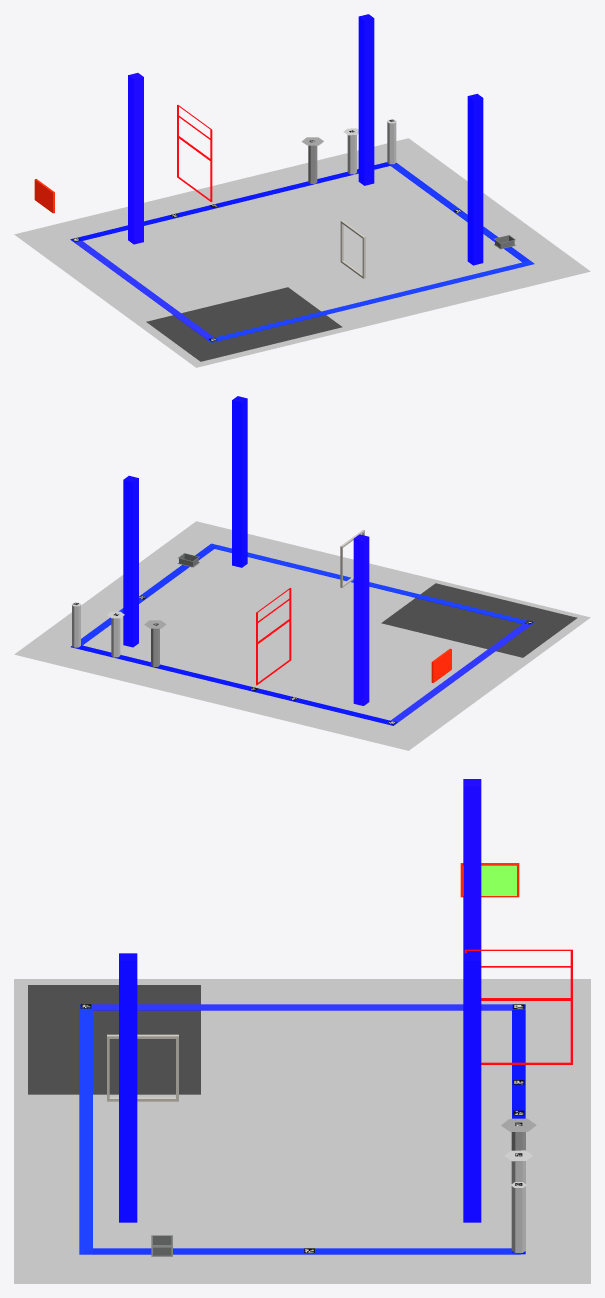
The model's file is imav_indoor24.dae.
3 renders of one model, top to bottom at view 1: azimuth 30°, elevation 25°; view 2: azimuth 150°, elevation 25°; view 3: azimuth 270°, elevation 25°, orthographic. The views are drawn at different scales.
Parts seen in each view (by area): view 1: Chão, Takeoff, Pilar.001, Pilar.002, Pilar, Linha 2, Linha 1, Linha 4, Linha 3, Cube.002, Cylinder, AcrylicWindow (+2 smaller); view 2: Chão, Takeoff, Pilar, Pilar.001, Pilar.002, Linha 1, Linha 2, Linha 4, Linha 3, Cube.002, Cylinder, Cylinder.001 (+1 smaller); view 3: Chão, Takeoff, Pilar.002, Pilar.001, Linha 2, Pilar, Linha 3, Linha 4, Cube, Linha 1, Cube.002, Cylinder.002 (+2 smaller).
Part boxes in pixels (x1=…): Chão: x1=14, y1=138, x2=590, y2=367; Takeoff: x1=146, y1=287, x2=342, y2=361; Pilar.001: x1=358, y1=14, x2=374, y2=185; Pilar.002: x1=467, y1=93, x2=483, y2=265; Pilar: x1=128, y1=73, x2=143, y2=244; Linha 2: x1=207, y1=260, x2=534, y2=342; Linha 1: x1=71, y1=162, x2=397, y2=242; Linha 4: x1=70, y1=239, x2=214, y2=340; Linha 3: x1=389, y1=163, x2=529, y2=262; Cube.002: x1=177, y1=105, x2=212, y2=202; Cylinder: x1=301, y1=137, x2=323, y2=184; AcrylicWindow: x1=340, y1=220, x2=365, y2=278; Chão: x1=14, y1=521, x2=590, y2=750; Takeoff: x1=381, y1=583, x2=577, y2=657; Pilar: x1=353, y1=534, x2=369, y2=705; Pilar.001: x1=123, y1=475, x2=138, y2=647; Pilar.002: x1=232, y1=396, x2=247, y2=567; Linha 1: x1=71, y1=645, x2=397, y2=725; Linha 2: x1=208, y1=543, x2=534, y2=624; Linha 4: x1=386, y1=623, x2=531, y2=725; Linha 3: x1=81, y1=545, x2=216, y2=645; Cube.002: x1=256, y1=588, x2=291, y2=685; Cylinder: x1=144, y1=620, x2=166, y2=667; Cylinder.001: x1=107, y1=611, x2=124, y2=657; Chão: x1=14, y1=979, x2=590, y2=1283; Takeoff: x1=28, y1=985, x2=200, y2=1094; Pilar.002: x1=119, y1=953, x2=137, y2=1222; Pilar.001: x1=463, y1=953, x2=481, y2=1222; Linha 2: x1=79, y1=1004, x2=92, y2=1254; Pilar: x1=463, y1=779, x2=481, y2=953; Linha 3: x1=84, y1=1248, x2=520, y2=1254; Linha 4: x1=89, y1=1004, x2=525, y2=1010; Cube: x1=460, y1=863, x2=519, y2=897; Linha 1: x1=512, y1=1004, x2=525, y2=1254; Cube.002: x1=464, y1=949, x2=572, y2=1064; Cylinder.002: x1=511, y1=1182, x2=526, y2=1252.
Size of the model in its own units: 10.05 by 8 by 4.06.
26 materials, 9 textured.
